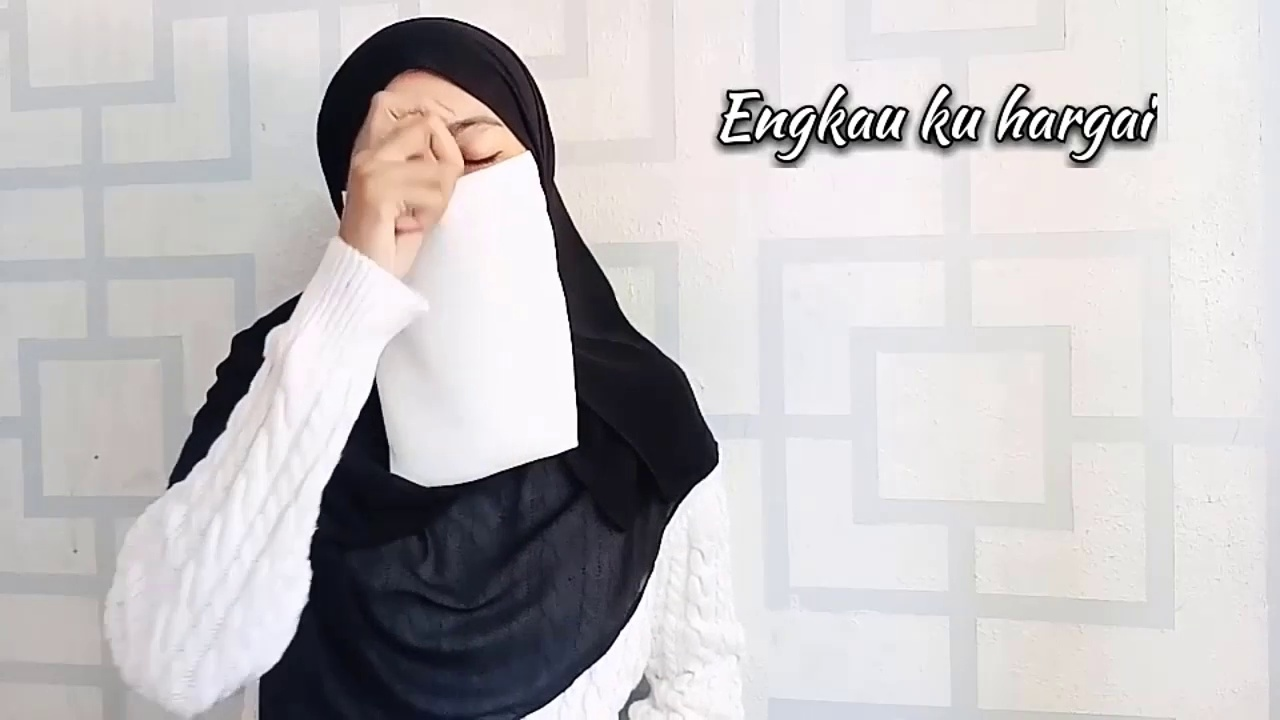HARGAI: (334, 13, 514, 263)
